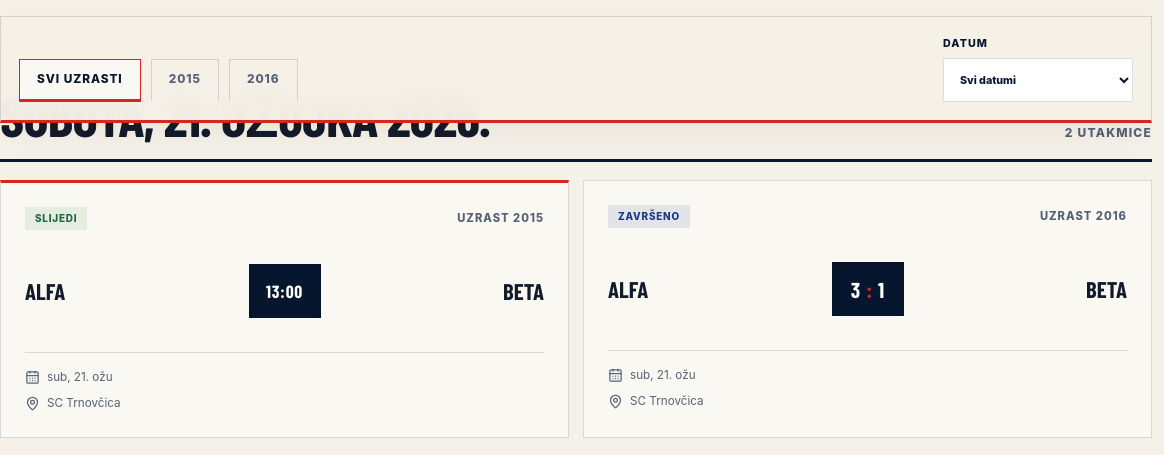
Test: matchday components › filters the schedule by age group
The image size is (1164, 455).
Click the button "2016" at {"x": 263, "y": 81}, box [229,59,298,102]
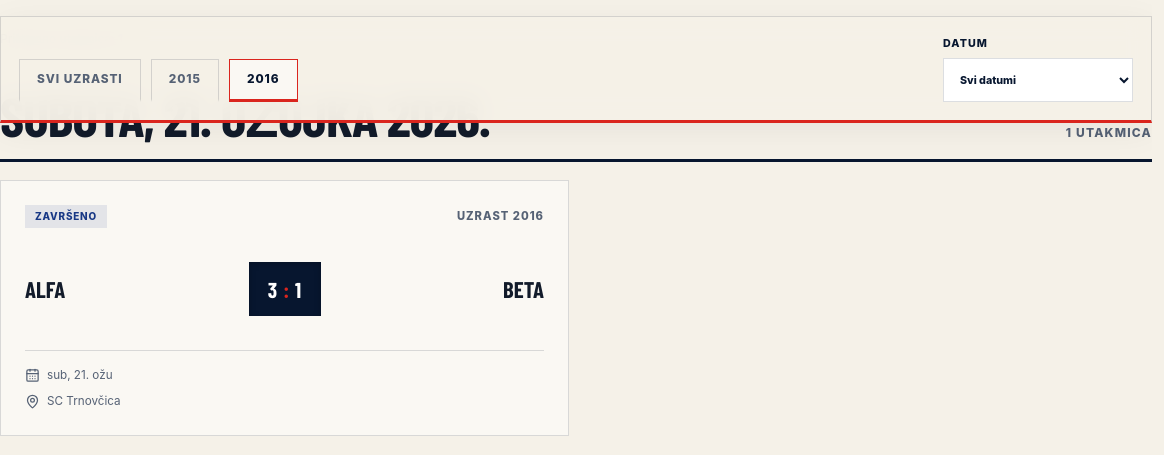
Check: the text "Uzrast 2016" is shown, box [457,208,544,225]
Check: the text "Uzrast 2015" is gone
